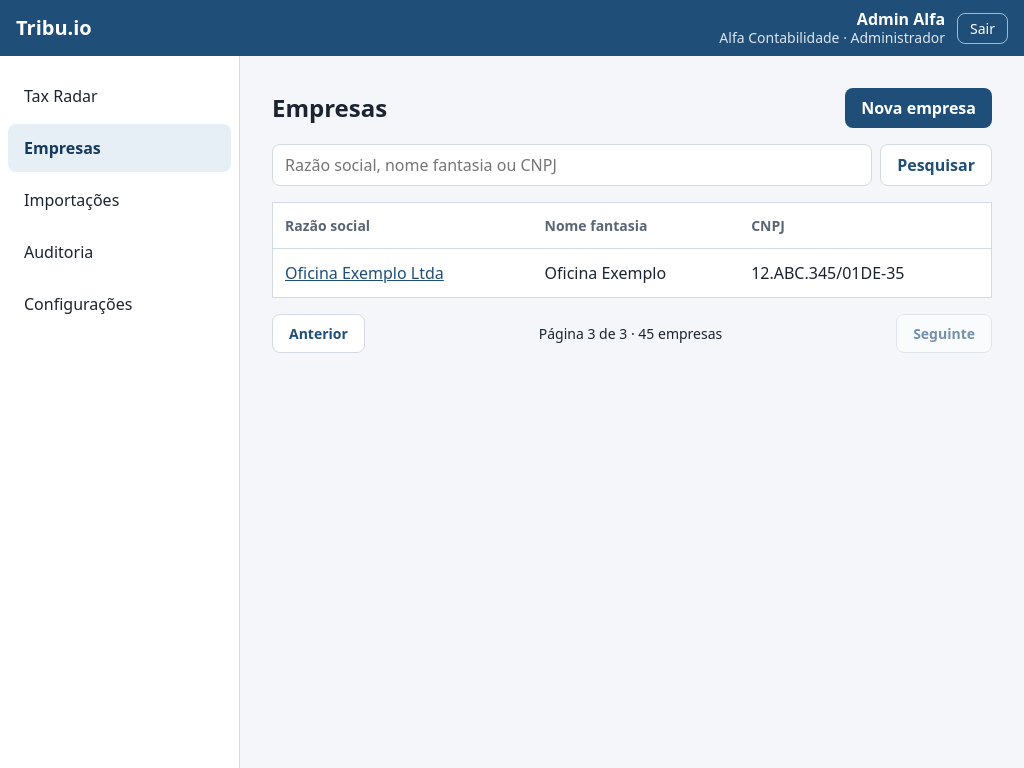
it: empresas › uma pesquisa nova volta à primeira página
The image size is (1024, 768).
Check: the text "Página 3 de 3 · 45 empresas" is shown, box [539, 323, 722, 344]
Step 1. Type "oficina" into the search field named "Pesquisar empresas" → [572, 165], box [272, 144, 872, 186]
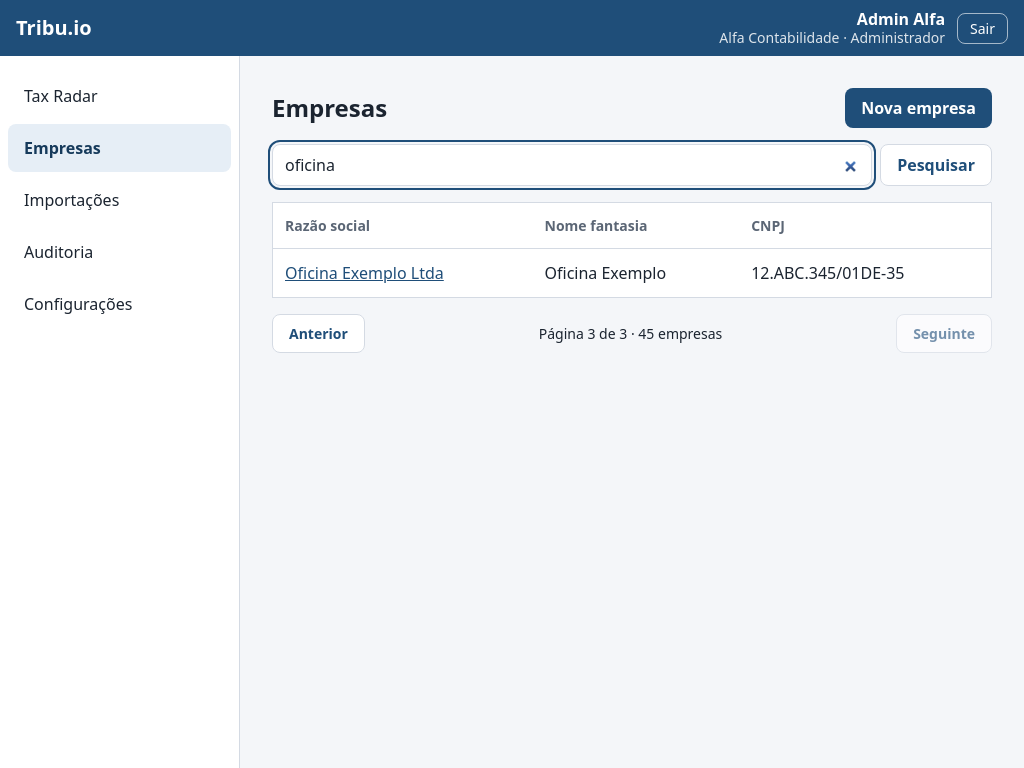
Step 2. Click the button "Pesquisar" → [936, 165], box [880, 144, 992, 186]
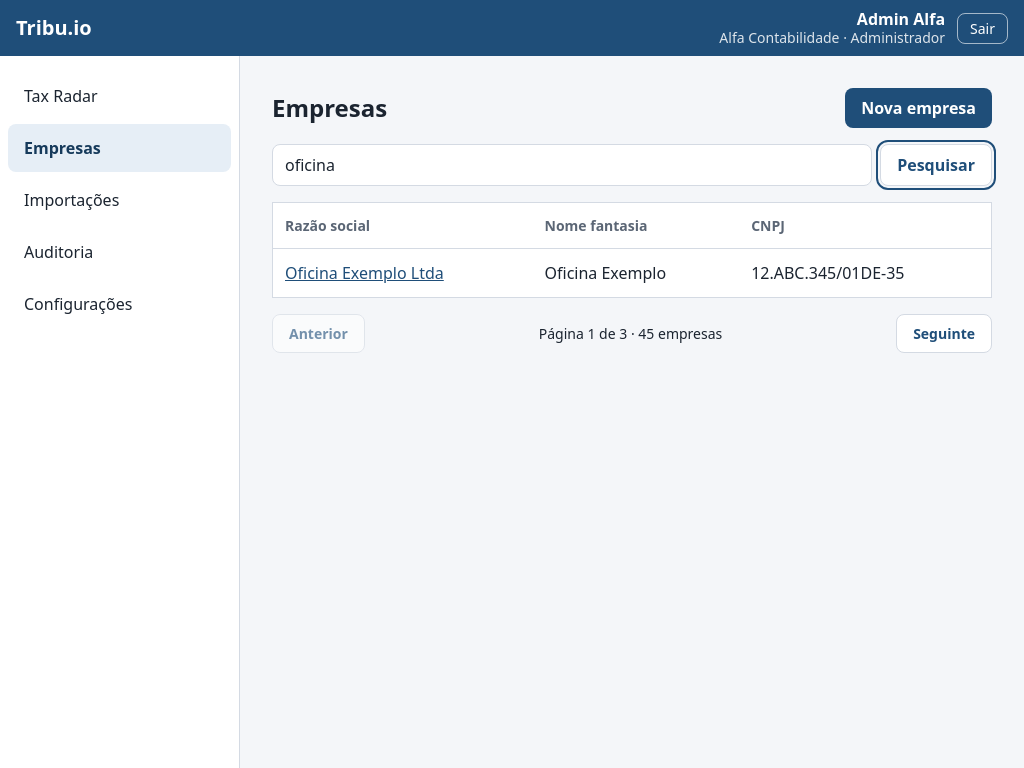
Check: the text "Página 1 de 3 · 45 empresas" is shown, box [539, 323, 722, 344]
